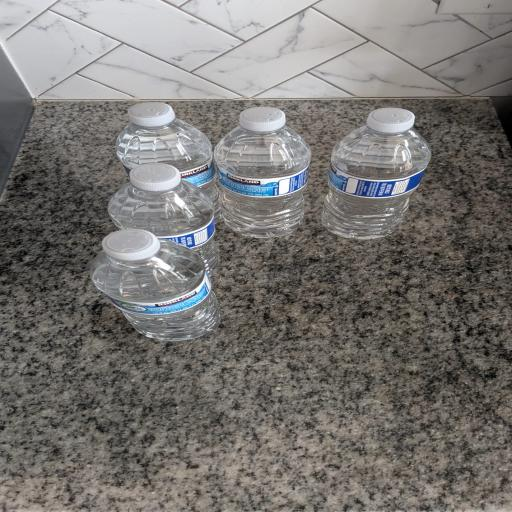waterbottle: (91, 230, 219, 341), (322, 108, 430, 239), (215, 107, 311, 237), (108, 164, 218, 275), (117, 103, 221, 220)
